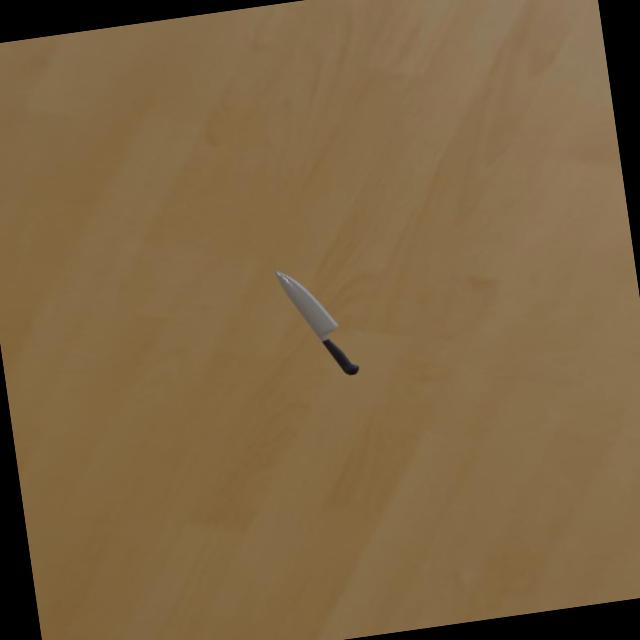knife: (321, 333, 360, 378)
